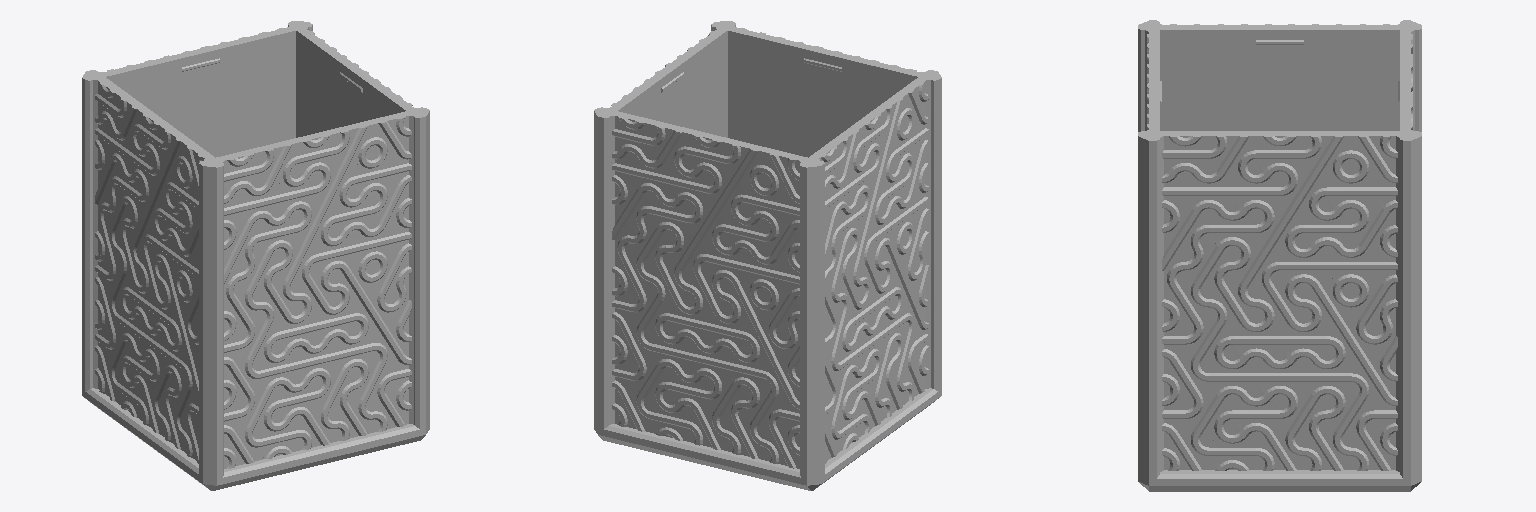
URDF robot description (root):
<?xml version='1.0' encoding='utf-8'?>
<robot name="root">
  <link name="link_001">
    <visual>
      <origin xyz="0 0 0" rpy="0 0 0" />
      <geometry>
        <mesh filename="772aba1cc0a063f3e1e82f5594b31689a7f26bf7665d4f0cbf36681617bf8e6a_scale_000.stl" scale="1.0000E+00 1.0000E+00 1.0000E+00" />
      </geometry>
      <material name="">
        <color rgba="7.50E-01 7.50E-01 7.50E-01 1" />
      </material>
    </visual>
    <collision>
      <origin xyz="0 0 0" rpy="0 0 0" />
      <geometry>
        <mesh filename="772aba1cc0a063f3e1e82f5594b31689a7f26bf7665d4f0cbf36681617bf8e6a_scale_000.stl" scale="1.0000E+00 1.0000E+00 1.0000E+00" />
      </geometry>
    </collision>
  </link>
</robot>

--- What the picture shows (computed from the rendered views, not written in the file) ---
Views: 3 orthographic renders of the robot side by side, from view 1: azimuth 30°, elevation 25°; view 2: azimuth 150°, elevation 25°; view 3: azimuth 270°, elevation 25°.
Robot: root — 1 links, 0 joints (none); root link link_001; default pose: all joints at 0.
Visible links, largest first — view 1: link_001; view 2: link_001; view 3: link_001.
Link boxes in pixels (x1,y1,x2,y2): link_001: (82,21,429,490); link_001: (594,21,941,490); link_001: (1138,20,1421,491).
Size in the robot's own frame: 0.0872 by 0.0872 by 0.12 metres.
1 mesh visuals loaded from 1 distinct referenced files (1 binary STL).
